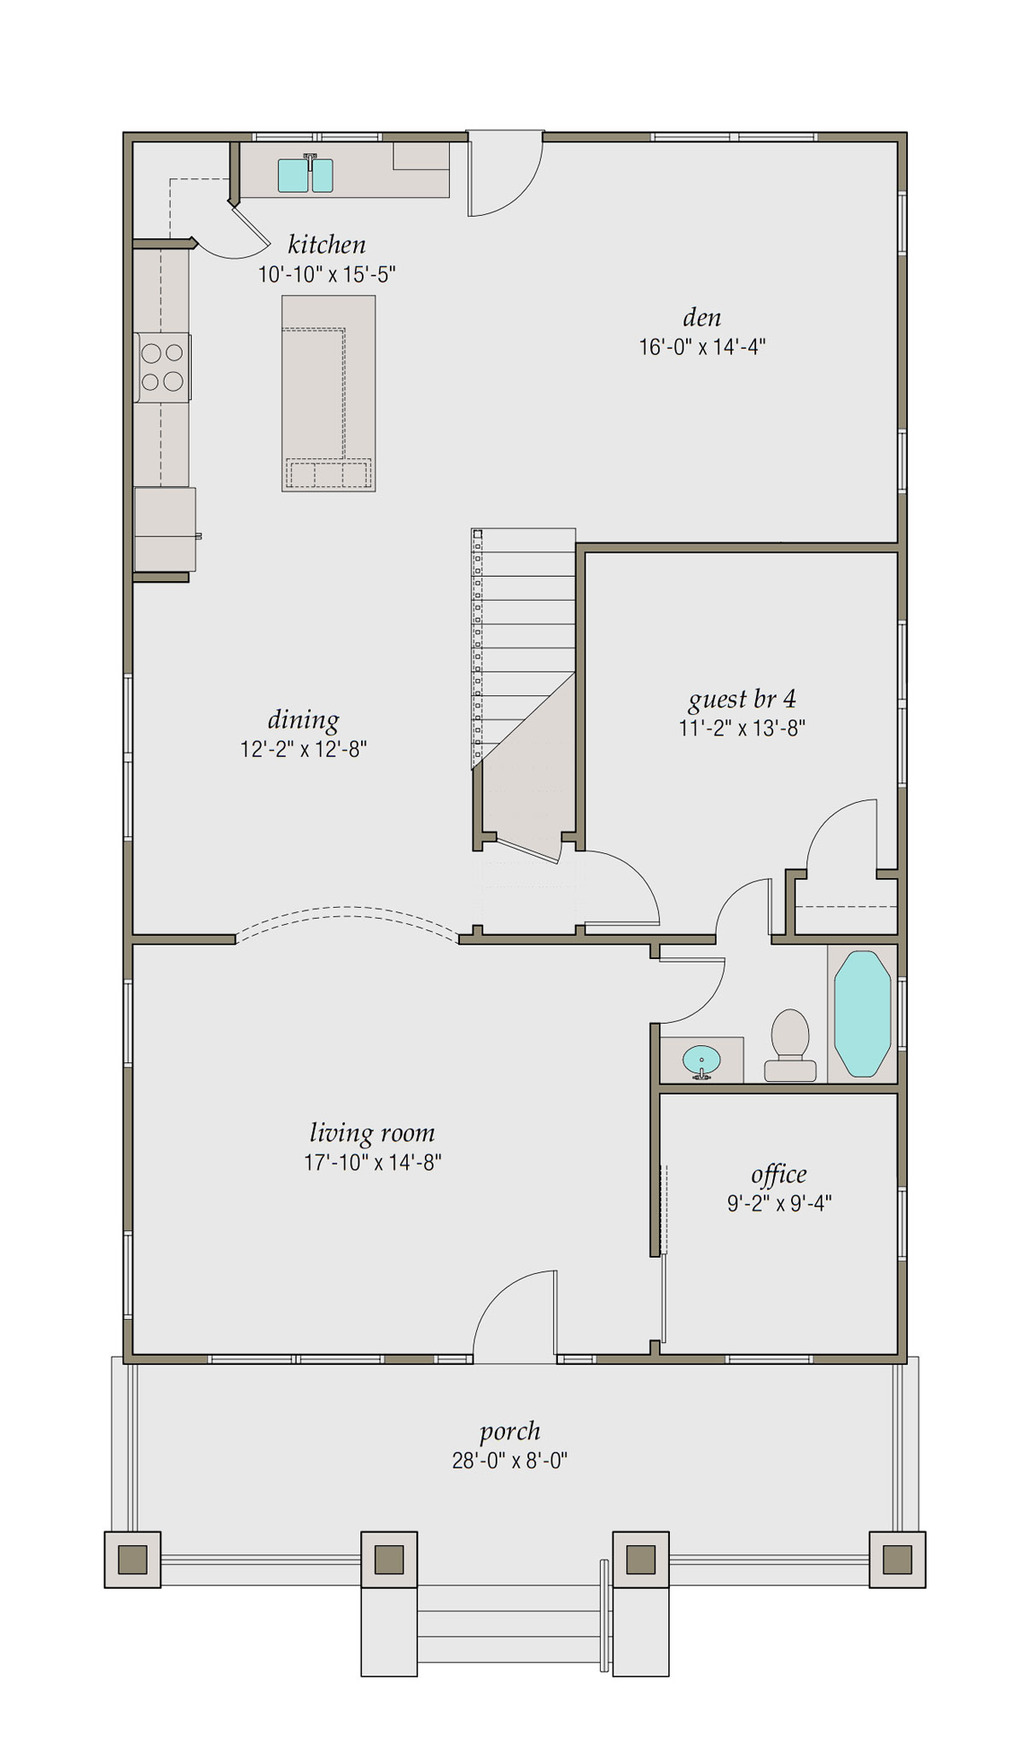door: (451, 1269, 583, 1388), (460, 107, 549, 236), (578, 836, 675, 934), (176, 188, 282, 271), (802, 785, 886, 877), (697, 860, 778, 947), (649, 953, 738, 1031)
kitchen_bar: (254, 285, 416, 539)
large_sink: (755, 990, 827, 1093)
small_sink: (656, 1022, 751, 1088)
stairs: (464, 516, 608, 785)
tub: (820, 940, 900, 1080)
twin_sink: (265, 155, 346, 204)
window: (889, 615, 924, 788), (646, 128, 837, 154), (213, 1350, 375, 1371), (121, 665, 137, 838), (727, 1350, 792, 1362)
